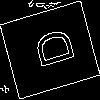D: (25, 25, 76, 74)
